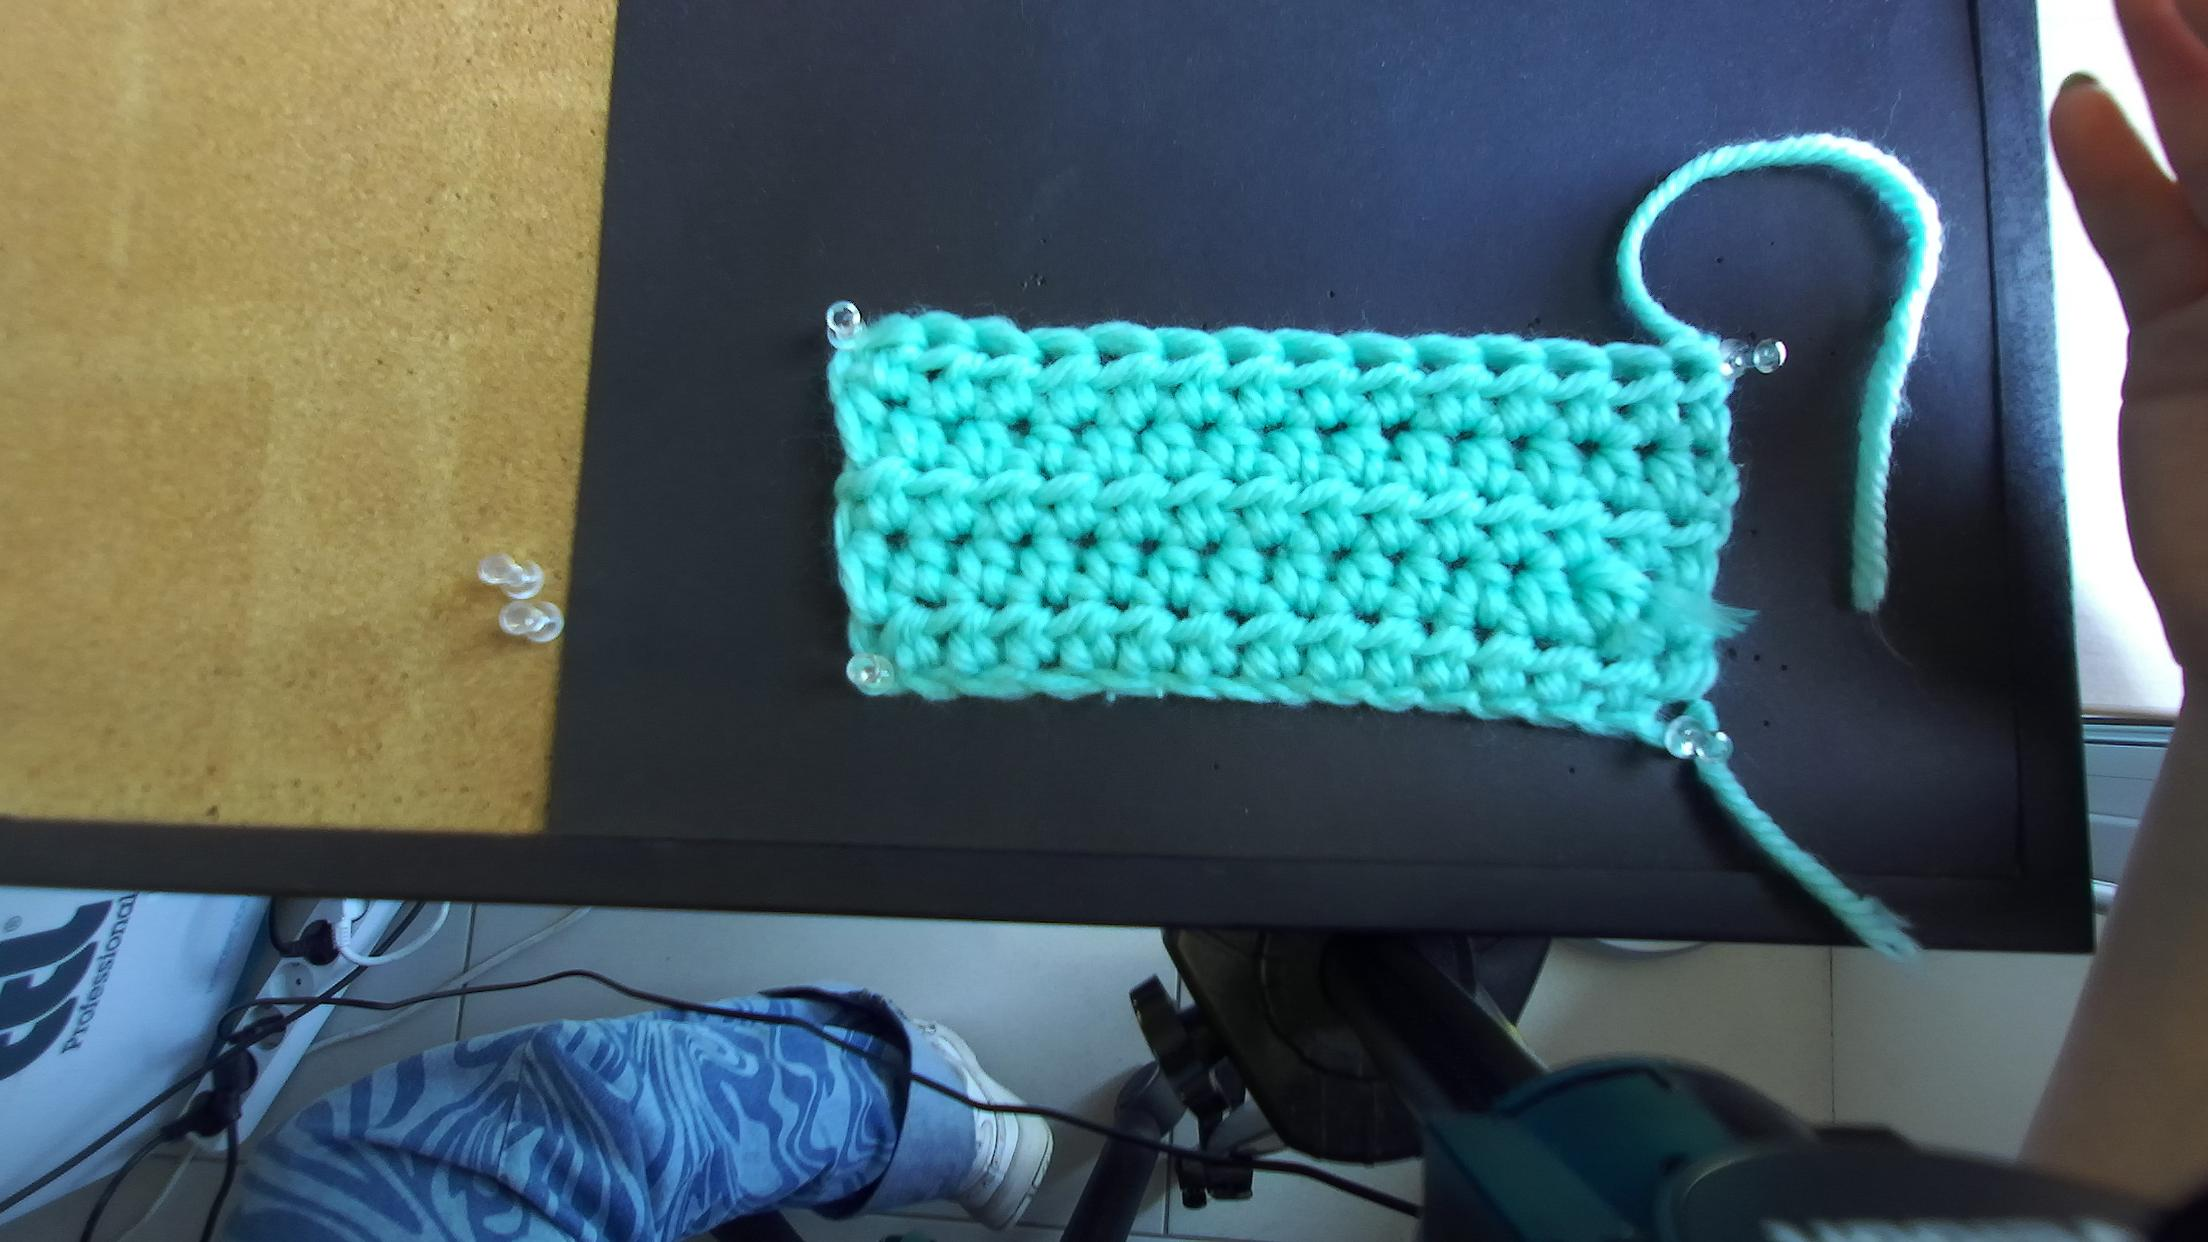hole: (969, 332, 1013, 362), (1095, 341, 1139, 369), (1353, 350, 1398, 376), (1284, 344, 1330, 367), (1036, 346, 1077, 370), (1416, 355, 1459, 378), (1545, 359, 1589, 381), (1485, 356, 1527, 378), (1225, 344, 1259, 370), (1162, 344, 1200, 365), (1612, 364, 1647, 385), (924, 332, 954, 352), (1673, 361, 1691, 384)
swatch: (822, 303, 1744, 761)
